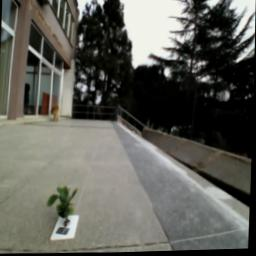herb: (49, 183, 81, 224)
